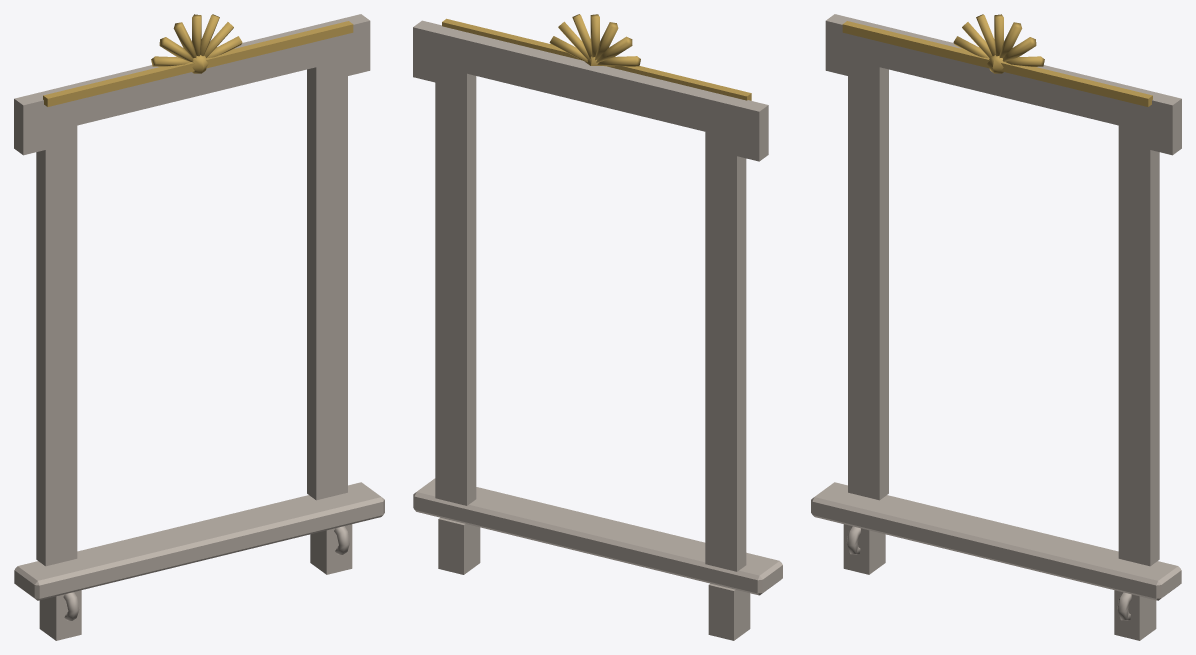
The model's file is facade_surround_simple.glb.
3 renders of one model, left to right at view 1: azimuth 30°, elevation 25°; view 2: azimuth 150°, elevation 25°; view 3: azimuth 330°, elevation 25°, orthographic.
Visible parts, largest first — view 1: facade_surround_simple; view 2: facade_surround_simple; view 3: facade_surround_simple.
Part boxes in pixels (box(x1,y1,x2,y2)): facade_surround_simple: box(14, 14, 384, 640); facade_surround_simple: box(413, 14, 782, 640); facade_surround_simple: box(811, 14, 1181, 640).
Size of what is drawn, in the model's own units: 2.2 by 3.5 by 0.26.
